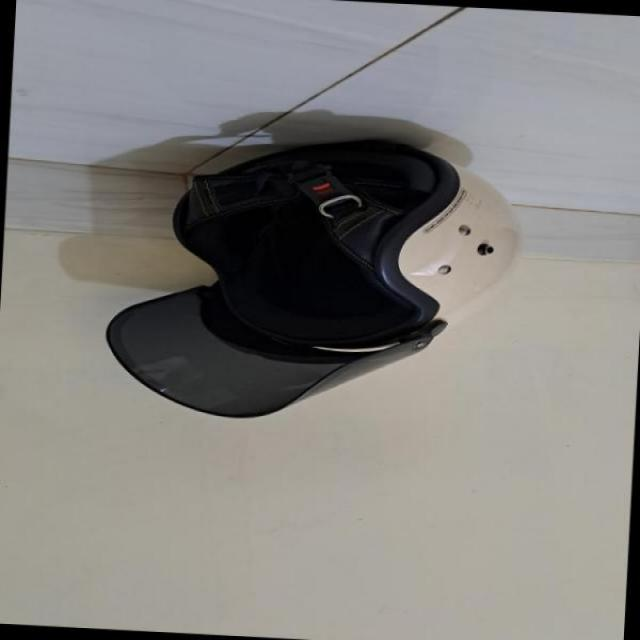Helmet: (102, 129, 525, 427)
